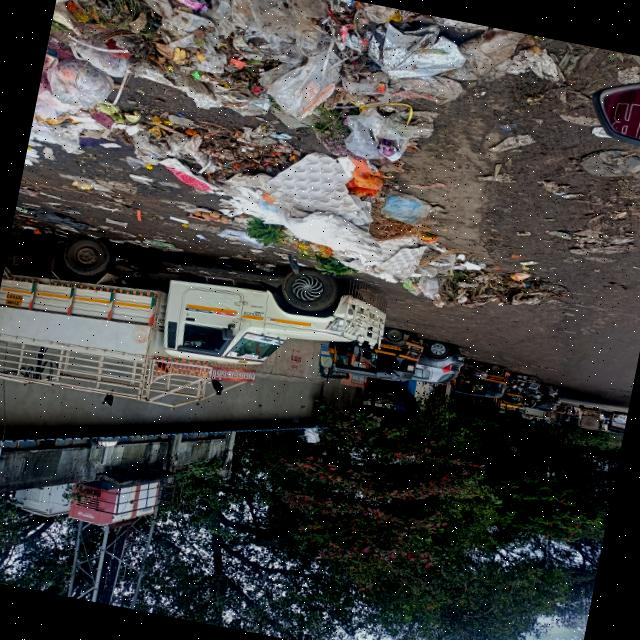garbage: (39, 0, 536, 191), (219, 153, 558, 316), (30, 66, 249, 205)
